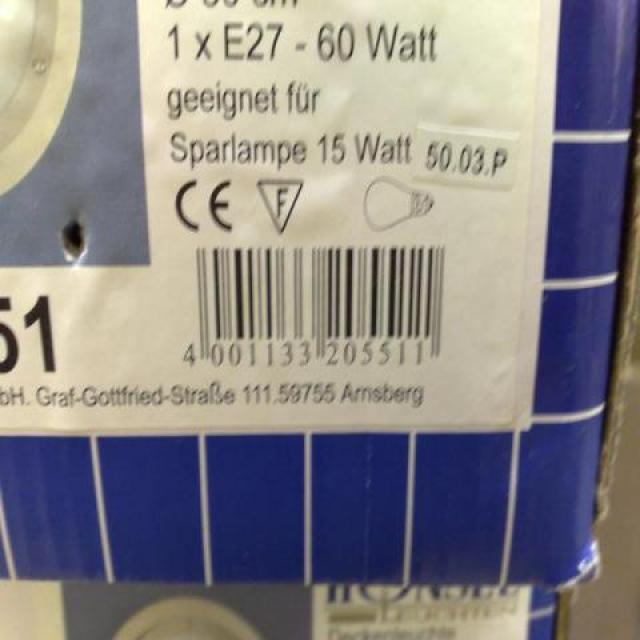Barcode: (174, 239, 462, 377)
